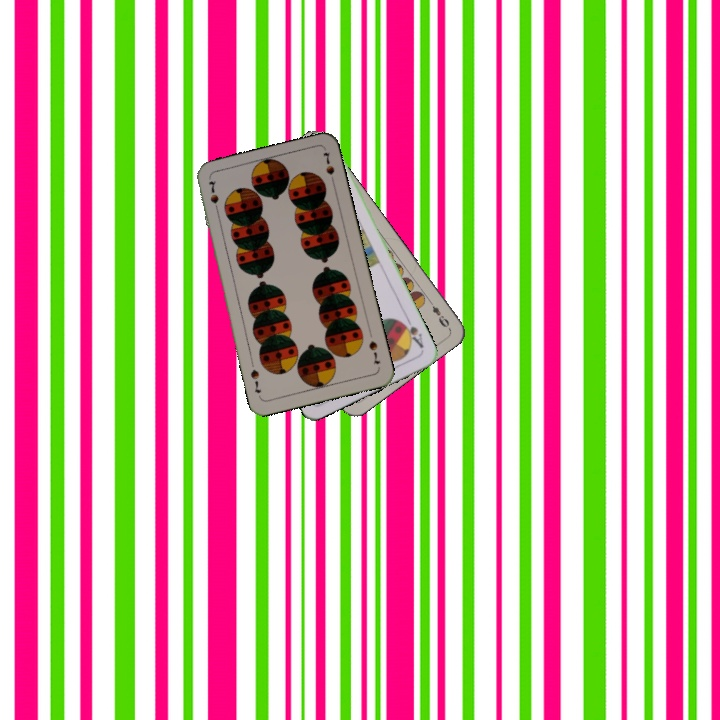E9: (424, 296, 452, 330)
S7: (204, 177, 222, 216), (365, 336, 383, 367)
SA: (397, 314, 426, 351)
